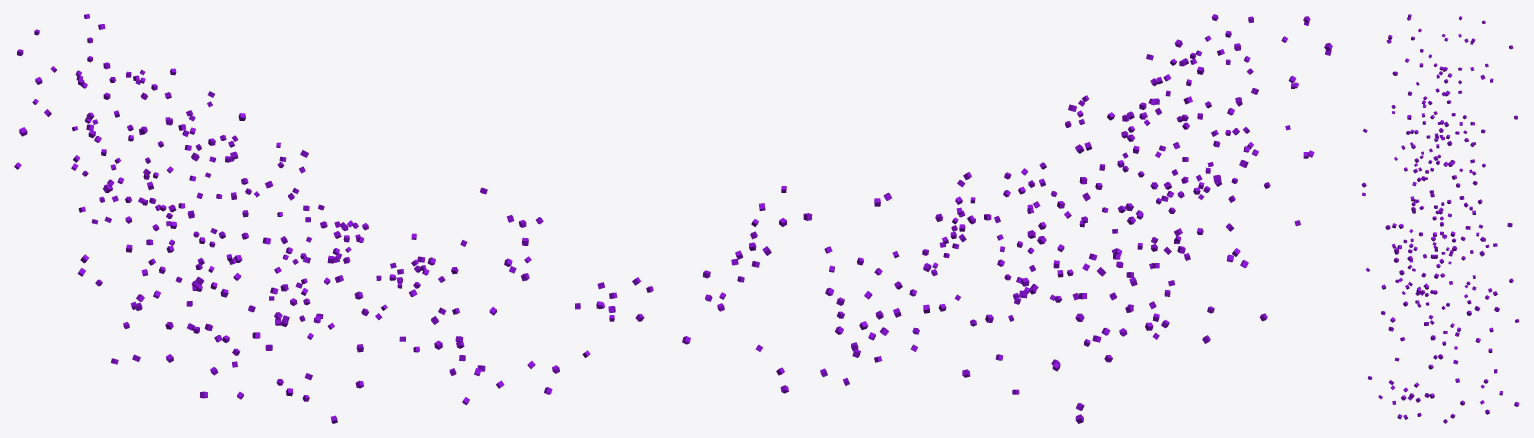
The model's file is Animated.fbx.
The picture shows the model from 3 angles, left to right: view 1: azimuth 30°, elevation 25°; view 2: azimuth 150°, elevation 25°; view 3: azimuth 270°, elevation 25°; orthographic projection. The views are drawn at different scales.
Bounding box in the file's own units: 3174 × 2275 × 1172.
